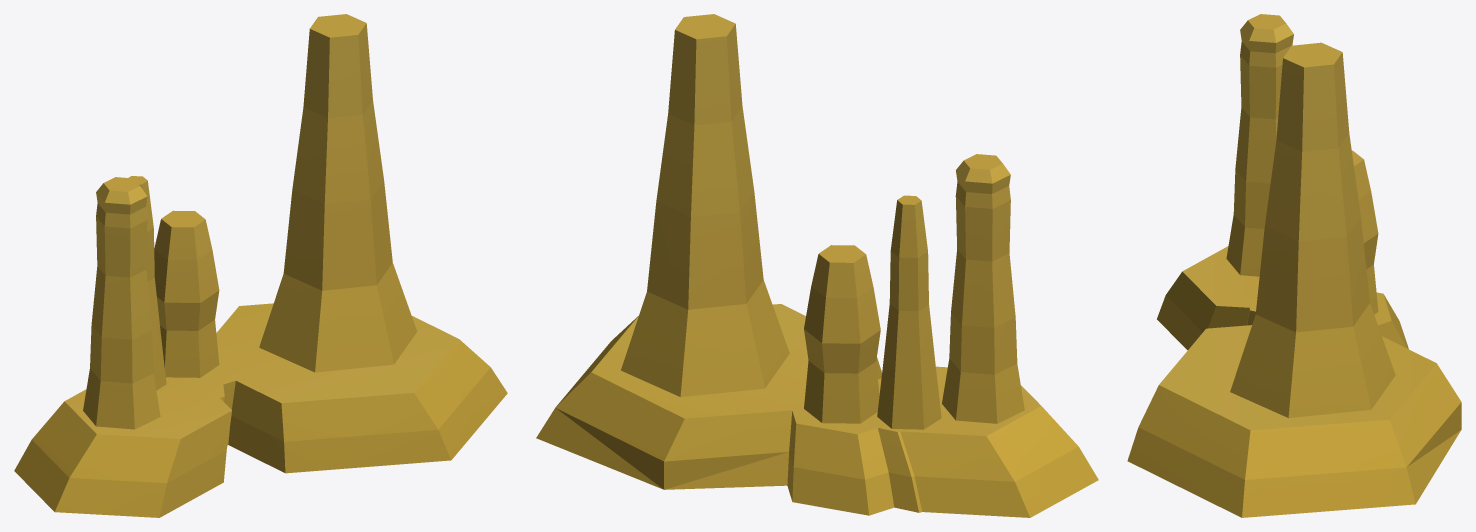
File: coral.fbx
3 views of the same model, side by side, from view 1: azimuth 30°, elevation 25°; view 2: azimuth 150°, elevation 25°; view 3: azimuth 270°, elevation 25° (orthographic). The views are drawn at different scales.
Visible parts, largest first — view 1: Coral_Upright_01; view 2: Coral_Upright_01; view 3: Coral_Upright_01.
Boxes of the visible parts, x1,y1,x2,y2 form: Coral_Upright_01: [14, 14, 507, 517]; Coral_Upright_01: [536, 14, 1098, 517]; Coral_Upright_01: [1127, 14, 1461, 517].
Size of the model in its own units: 312 by 243 by 187.
1 material, 1 textured.
